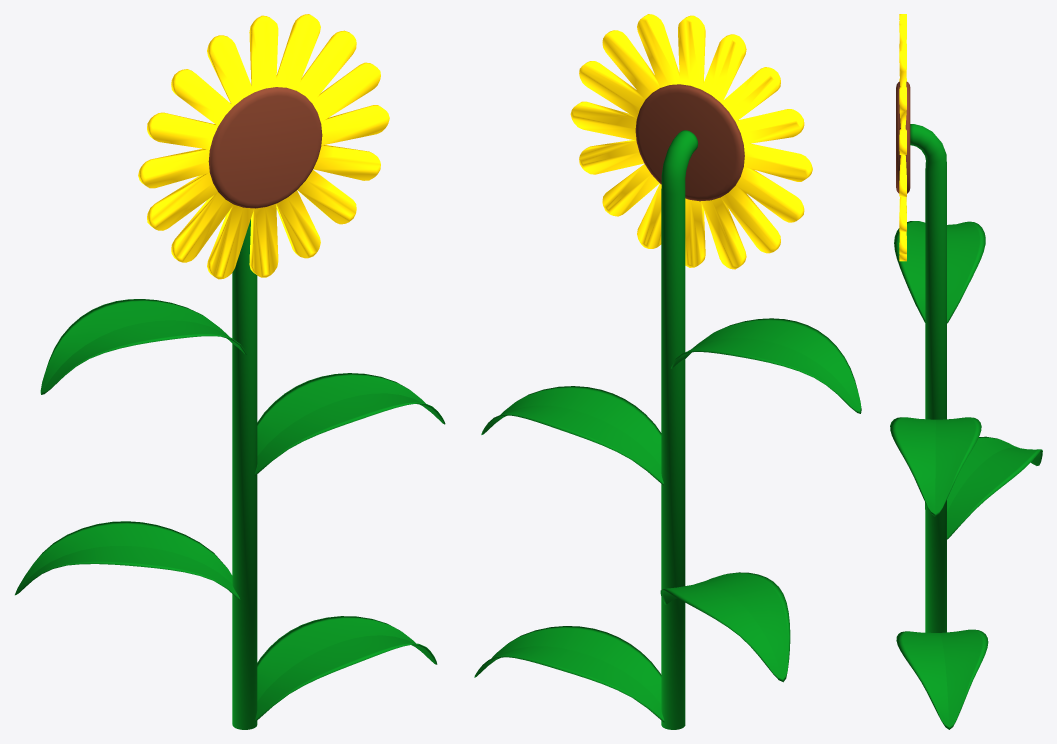
File: SunFlower1.fbx
3 renders of one model, left to right at view 1: azimuth 30°, elevation 25°; view 2: azimuth 150°, elevation 25°; view 3: azimuth 270°, elevation 25°, orthographic. The views are drawn at different scales.
Visible parts, largest first — view 1: SunFlower1; view 2: SunFlower1; view 3: SunFlower1.
Part boxes in pixels (x1,y1,x2,y2): SunFlower1: (15,14,445,729); SunFlower1: (474,14,861,729); SunFlower1: (890,14,1042,729).
Bounding box in the file's own units: 2.26 × 0.8654 × 3.92.
